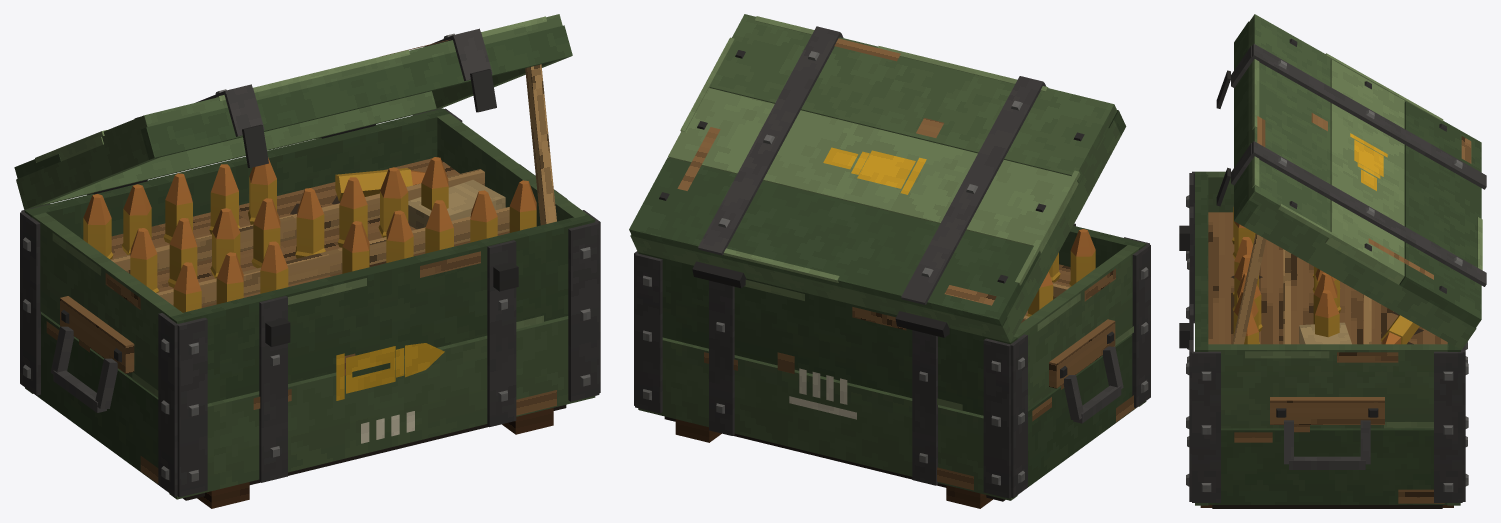
File: fp_crate_ammo.glb
The picture shows the model from 3 angles, left to right: view 1: azimuth 30°, elevation 25°; view 2: azimuth 150°, elevation 25°; view 3: azimuth 270°, elevation 25°; orthographic projection. The views are drawn at different scales.
Parts seen in each view (by area): view 1: fp_crate_ammo, lid, deco_handles; view 2: lid, fp_crate_ammo, deco_handles; view 3: fp_crate_ammo, lid, deco_handles.
Part boxes in pixels (bbox=[...]): fp_crate_ammo: bbox=[20, 108, 600, 508]; lid: bbox=[14, 14, 572, 209]; deco_handles: bbox=[50, 64, 556, 412]; lid: bbox=[629, 14, 1126, 342]; fp_crate_ammo: bbox=[634, 223, 1150, 508]; deco_handles: bbox=[1063, 346, 1123, 423]; fp_crate_ammo: bbox=[1179, 171, 1468, 508]; lid: bbox=[1216, 14, 1486, 349]; deco_handles: bbox=[1232, 233, 1370, 469].
Size of the model in its own units: 1.17 by 0.92 by 0.761.
16 materials, 11 textured.
